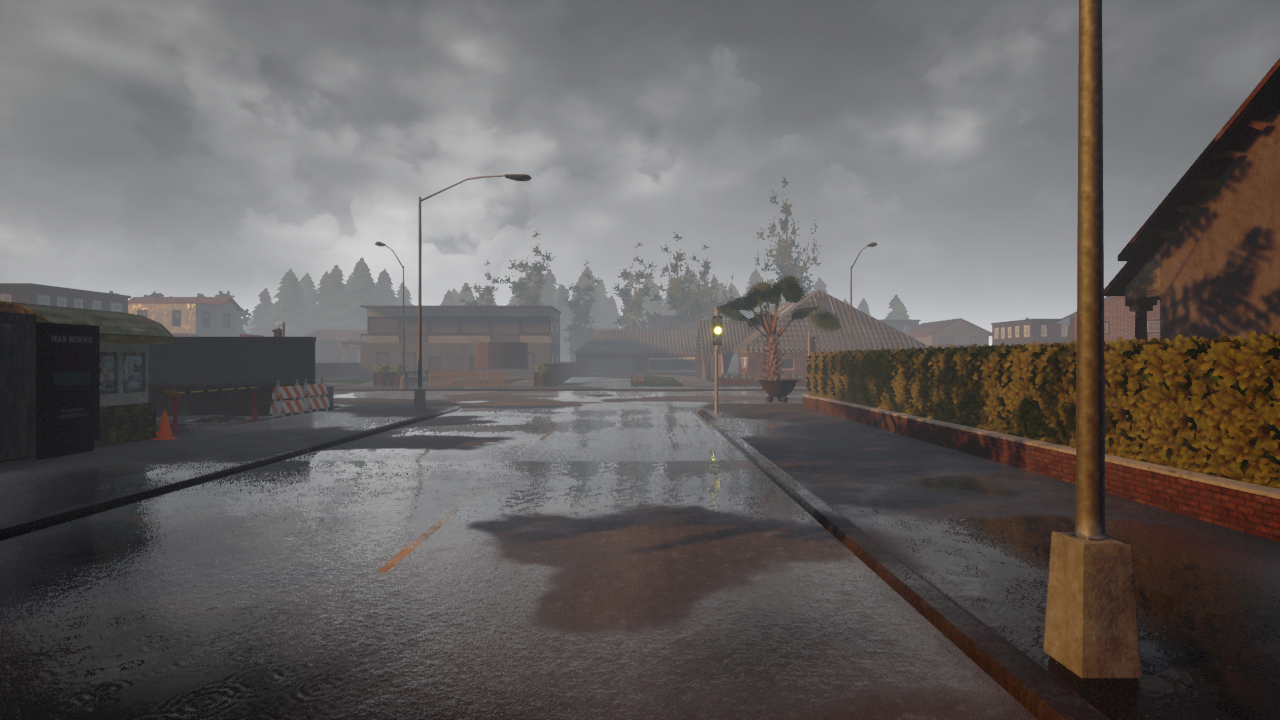yellow: (713, 314, 723, 345)
